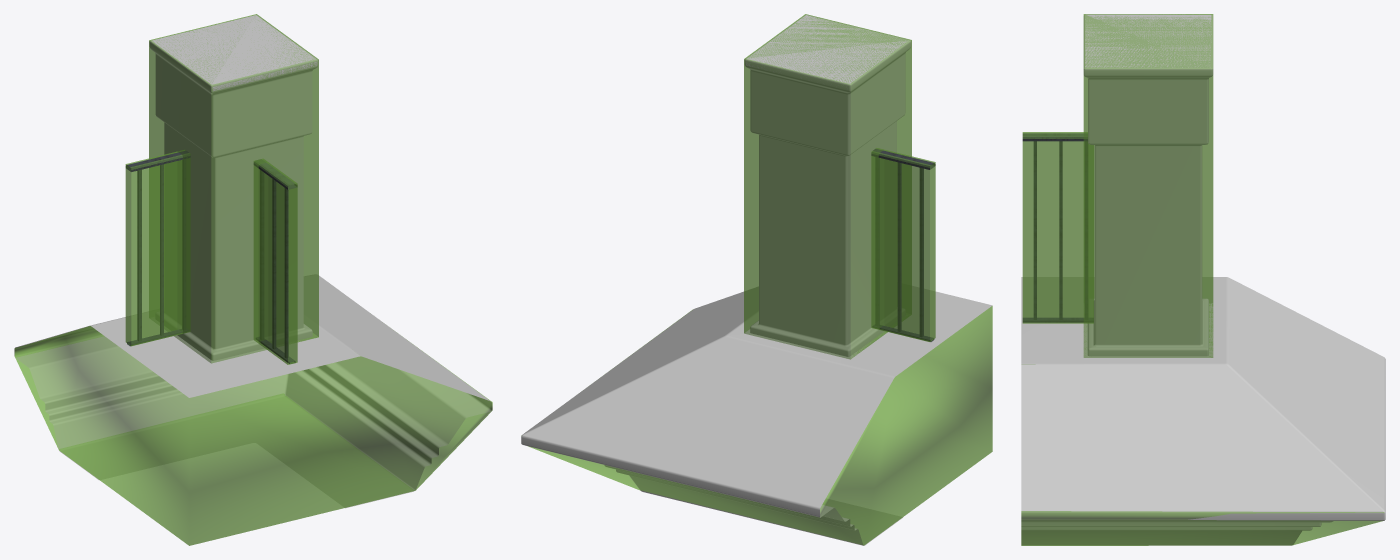
Rendered from F7_md_Roof_90cnr_01.fbx.
The picture shows the model from 3 angles, left to right: view 1: azimuth 30°, elevation 25°; view 2: azimuth 150°, elevation 25°; view 3: azimuth 270°, elevation 25°; orthographic projection. The views are drawn at different scales.
Visible parts, largest first — view 1: F7_md_Roof_90cnr_01_LOD0, F7_md_Roof_90cnr_01_col_04, F7_md_Roof_90cnr_01_col_01, F7_md_Roof_90cnr_01_col_02, F7_md_Roof_90cnr_01_col_03; view 2: F7_md_Roof_90cnr_01_LOD0, F7_md_Roof_90cnr_01_col_01, F7_md_Roof_90cnr_01_col_04, F7_md_Roof_90cnr_01_col_02; view 3: F7_md_Roof_90cnr_01_LOD0, F7_md_Roof_90cnr_01_col_01, F7_md_Roof_90cnr_01_col_03, F7_md_Roof_90cnr_01_col_04.
Part boxes in pixels (x1=…): F7_md_Roof_90cnr_01_LOD0: x1=14, y1=15, x2=492, y2=508; F7_md_Roof_90cnr_01_col_04: x1=14, y1=326, x2=492, y2=545; F7_md_Roof_90cnr_01_col_01: x1=149, y1=14, x2=318, y2=363; F7_md_Roof_90cnr_01_col_02: x1=125, y1=150, x2=190, y2=346; F7_md_Roof_90cnr_01_col_03: x1=254, y1=159, x2=297, y2=364; F7_md_Roof_90cnr_01_LOD0: x1=521, y1=15, x2=992, y2=545; F7_md_Roof_90cnr_01_col_01: x1=744, y1=14, x2=911, y2=359; F7_md_Roof_90cnr_01_col_04: x1=521, y1=306, x2=992, y2=545; F7_md_Roof_90cnr_01_col_02: x1=871, y1=148, x2=935, y2=341; F7_md_Roof_90cnr_01_LOD0: x1=1021, y1=14, x2=1385, y2=545; F7_md_Roof_90cnr_01_col_01: x1=1083, y1=14, x2=1213, y2=357; F7_md_Roof_90cnr_01_col_03: x1=1022, y1=132, x2=1093, y2=323; F7_md_Roof_90cnr_01_col_04: x1=1021, y1=364, x2=1384, y2=545.
Size of what is drawn, in the model's own units: 194 by 261 by 194.
